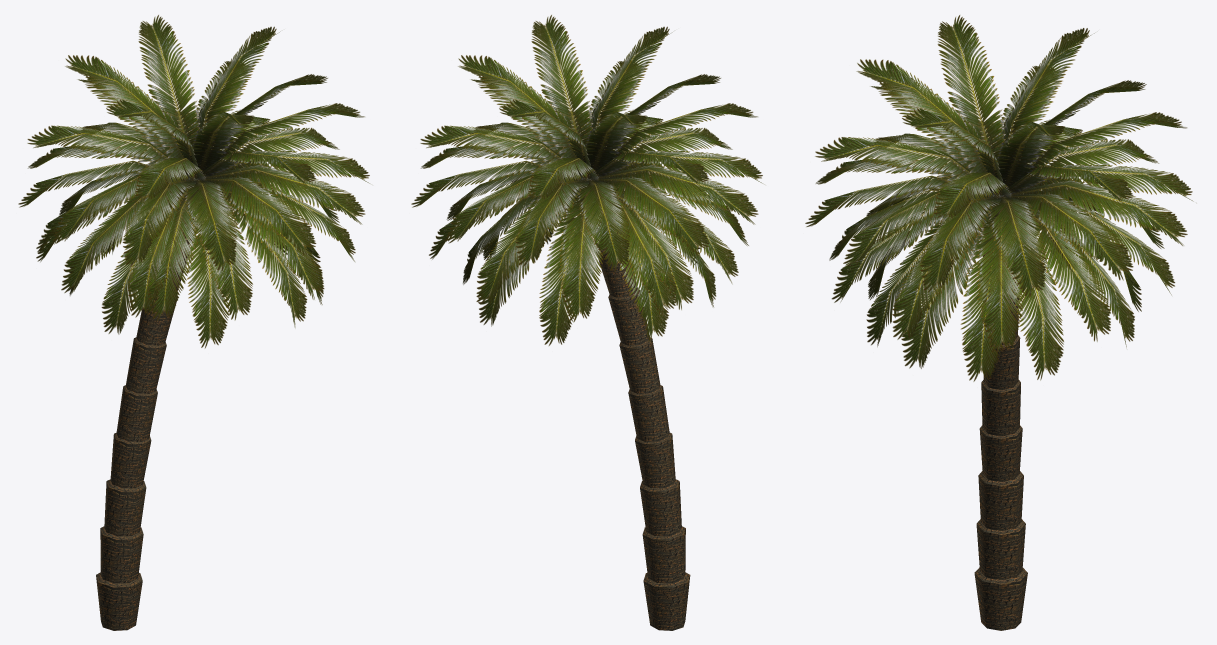
File: palm_tree.glb
The picture shows the model from 3 angles, left to right: view 1: azimuth 30°, elevation 25°; view 2: azimuth 150°, elevation 25°; view 3: azimuth 270°, elevation 25°; orthographic projection. The views are drawn at different scales.
Parts seen in each view (by area): view 1: Palm_Trunk, Plane042_Material #25_0, Plane008_Material #25_0, Plane029_Material #25_0, Plane043_Material #25_0, Plane030_Material #25_0, Plane028_Material #25_0, Plane015_Material #25_0, Plane011_Material #25_0, Plane039_Material #25_0, Plane041_Material #25_0, Plane010_Material #25_0 (+23 smaller); view 2: Palm_Trunk, Plane040_Material #25_0, Plane012_Material #25_0, Plane033_Material #25_0, Plane041_Material #25_0, Plane022_Material #25_0, Plane032_Material #25_0, Plane018_Material #25_0, Plane037_Material #25_0, Plane004_Material #25_0, Plane045_Material #25_0, Plane009_Material #25_0 (+24 smaller); view 3: Palm_Trunk, Plane044_Material #25_0, Plane001_Material #25_0, Plane006_Material #25_0, Plane025_Material #25_0, Plane026_Material #25_0, Plane045_Material #25_0, Plane024_Material #25_0, Plane020_Material #25_0, Plane035_Material #25_0, Plane013_Material #25_0, Plane043_Material #25_0 (+23 smaller).
Boxes of the visible parts, <box> form: Palm_Trunk: <box>96,219,193,630</box>; Plane042_Material #25_0: <box>138,15,202,167</box>; Plane008_Material #25_0: <box>147,180,205,320</box>; Plane029_Material #25_0: <box>197,177,316,255</box>; Plane043_Material #25_0: <box>65,55,194,178</box>; Plane030_Material #25_0: <box>183,179,237,271</box>; Plane028_Material #25_0: <box>202,164,365,224</box>; Plane015_Material #25_0: <box>185,198,229,348</box>; Plane011_Material #25_0: <box>61,180,194,293</box>; Plane039_Material #25_0: <box>27,125,195,180</box>; Plane041_Material #25_0: <box>195,26,279,171</box>; Plane010_Material #25_0: <box>195,186,252,320</box>; Palm_Trunk: <box>595,216,690,630</box>; Plane040_Material #25_0: <box>531,15,595,167</box>; Plane012_Material #25_0: <box>558,180,603,322</box>; Plane033_Material #25_0: <box>590,177,709,255</box>; Plane041_Material #25_0: <box>458,55,587,178</box>; Plane022_Material #25_0: <box>576,179,630,271</box>; Plane032_Material #25_0: <box>595,164,758,224</box>; Plane018_Material #25_0: <box>539,195,597,345</box>; Plane037_Material #25_0: <box>420,125,588,180</box>; Plane004_Material #25_0: <box>589,186,676,314</box>; Plane045_Material #25_0: <box>588,26,672,171</box>; Plane009_Material #25_0: <box>609,189,693,309</box>; Palm_Trunk: <box>974,233,1027,630</box>; Plane044_Material #25_0: <box>937,15,1008,183</box>; Plane001_Material #25_0: <box>976,197,1025,353</box>; Plane006_Material #25_0: <box>1004,203,1110,341</box>; Plane025_Material #25_0: <box>1002,194,1133,280</box>; Plane026_Material #25_0: <box>987,196,1046,297</box>; Plane045_Material #25_0: <box>856,59,999,195</box>; Plane024_Material #25_0: <box>1008,180,1187,245</box>; Plane020_Material #25_0: <box>1003,208,1063,380</box>; Plane035_Material #25_0: <box>815,137,1000,197</box>; Plane013_Material #25_0: <box>960,211,1013,381</box>; Plane043_Material #25_0: <box>999,28,1094,187</box>.
Bounding box in the file's own units: 279 × 458 × 279.
Materials: 1 (1 with a texture image).
